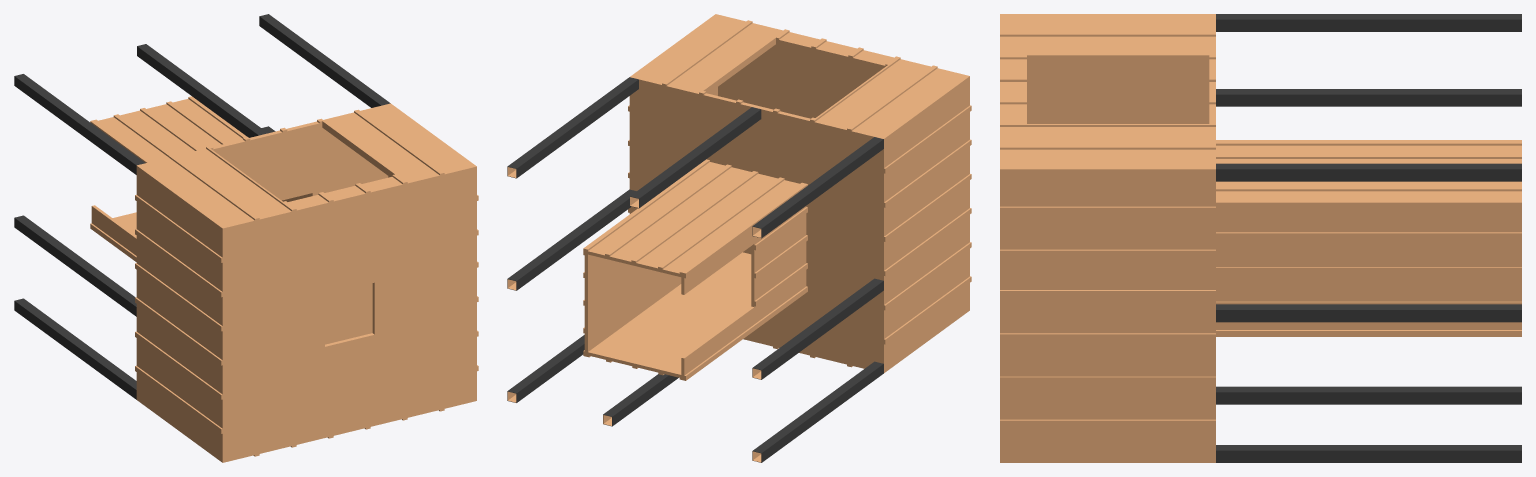
The model's file is XrayVault.dae.
The picture shows the model from 3 angles, left to right: view 1: azimuth 30°, elevation 25°; view 2: azimuth 150°, elevation 25°; view 3: azimuth 270°, elevation 25°; orthographic projection. The views are drawn at different scales.
Visible parts, largest first — view 1: X-Ray_x0020_Vault; view 2: X-Ray_x0020_Vault; view 3: X-Ray_x0020_Vault.
Boxes of the visible parts, x1,y1,x2,y2 form: X-Ray_x0020_Vault: (14,14,478,462); X-Ray_x0020_Vault: (507,14,971,462); X-Ray_x0020_Vault: (1000,14,1521,462).
Size of the model in its own units: 4204 by 3708 by 5893.
